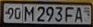0: (14, 6, 22, 21)
2: (36, 6, 46, 22)
3: (54, 6, 65, 23)
9: (45, 6, 55, 22), (5, 6, 14, 21)
A: (75, 6, 84, 23)
F: (64, 6, 74, 23)
M: (23, 5, 35, 22)
